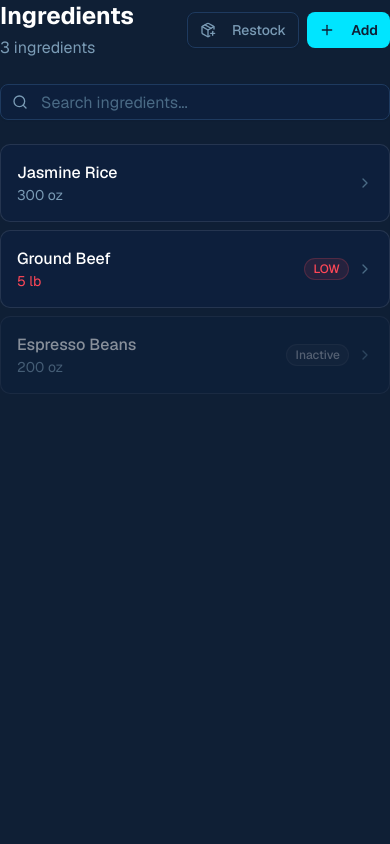
IngredientsPage › tapping a mobile card opens the detail sheet
The width and height of the screenshot is (390, 844).
Expected: the element with test id "ingredients-mobile" is shown, [0,144,389,394]
Click the element with test id "mobile-card-ing-1" at (195,183), box [0,144,389,222]
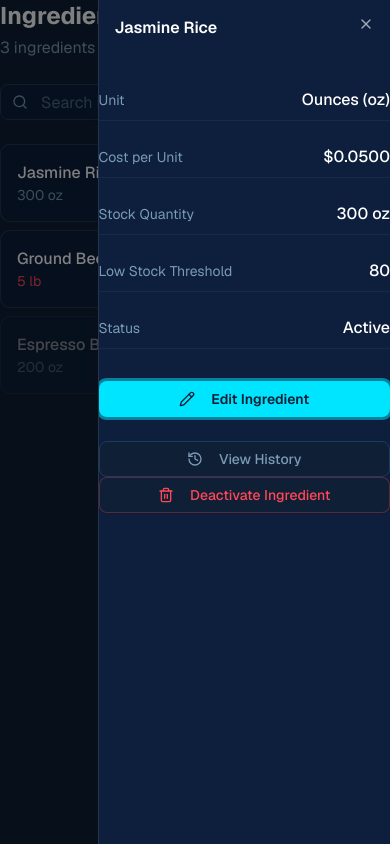
Now the element with test id "ingredient-detail" is shown, box [98,0,389,513]
Now the heading "Jasmine Rice" is shown, box [114,17,217,38]
